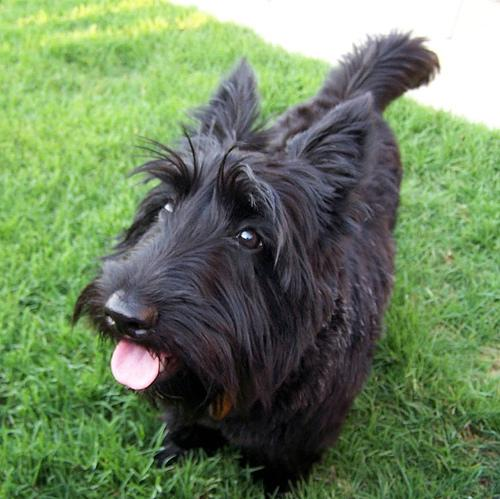dog-scottish_terrier: (86, 55, 371, 388)
